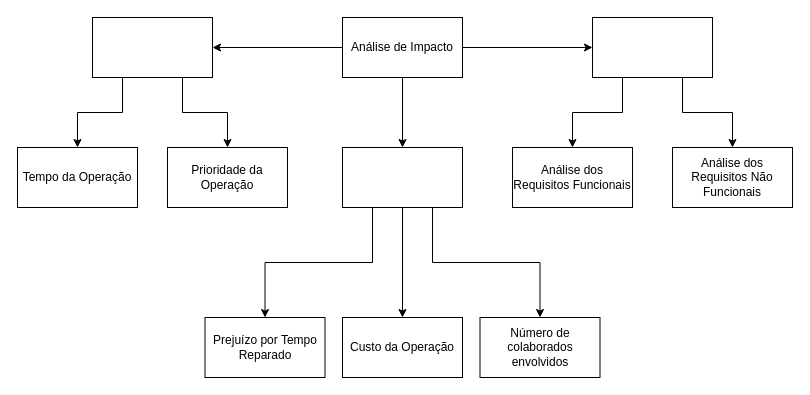
The diagram is 810 pixels wide and 395 high, and some of its shapes have lost their labels. The shapes that lost their labels are listed below. From the top down, each one's box as (x1, y1, x2, y2) in pixels, then its label:
(92, 16, 212, 78): Análise de Tempo
(592, 16, 712, 78): Análise da Documentação
(342, 146, 462, 208): Análise Financeira
